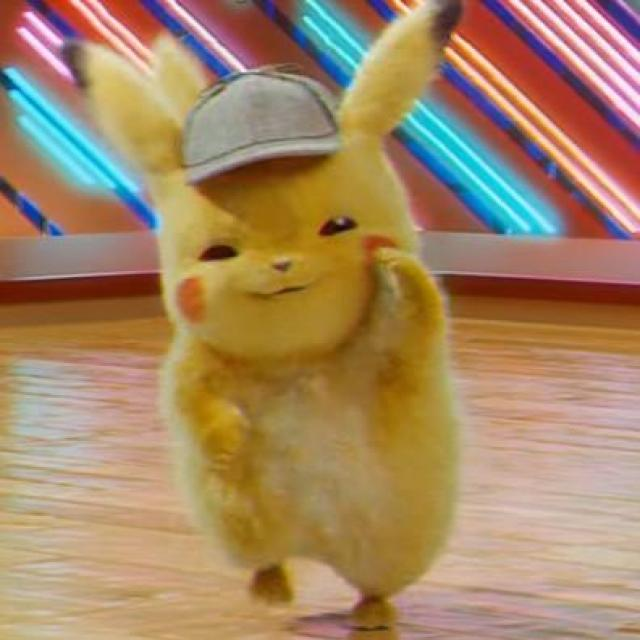pikachu: (64, 0, 465, 630)
